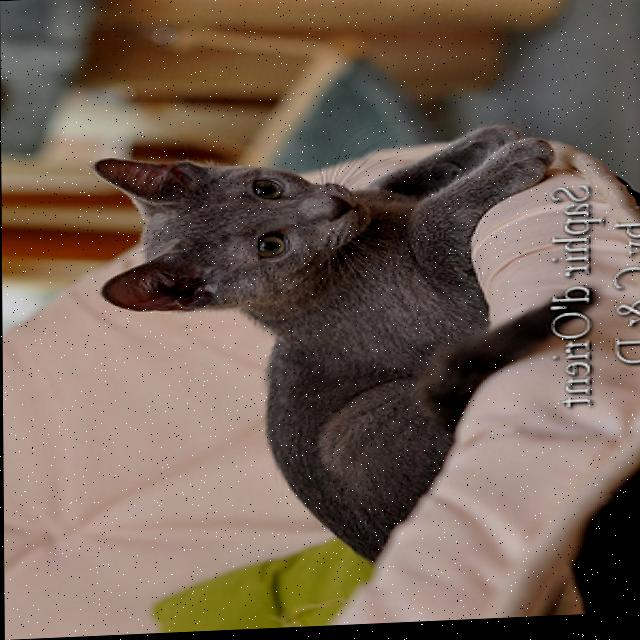Russian Blue: (85, 122, 599, 578)
